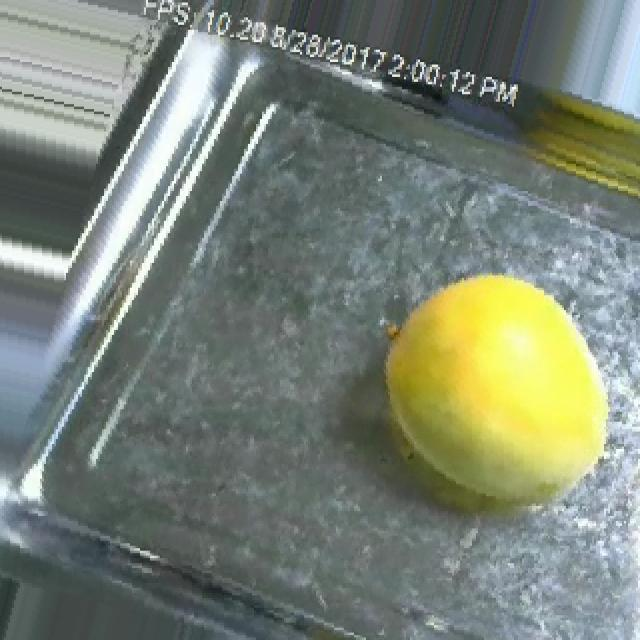fruit: (330, 228, 640, 558)
